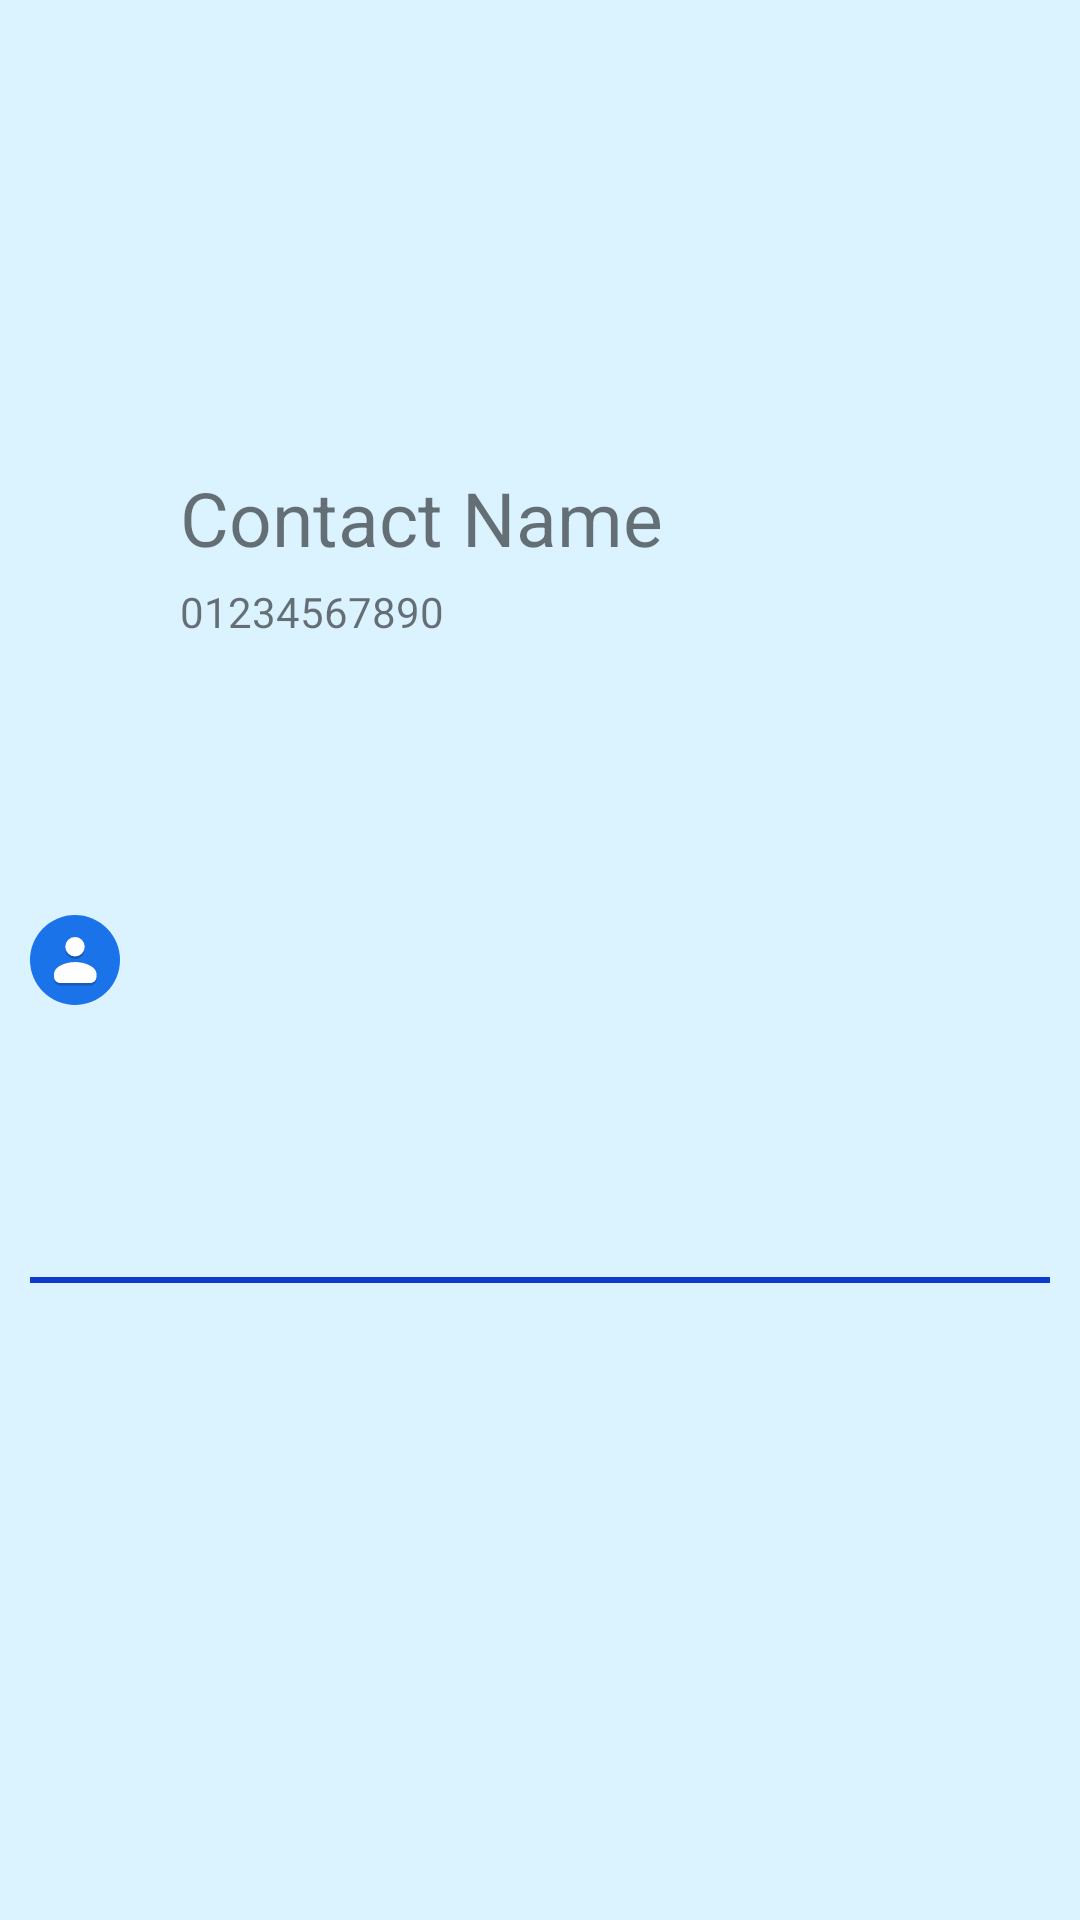

Point at icon controls on the screen. Image size 1080 x 1920, points as (x,y).
contact: (75,960)
